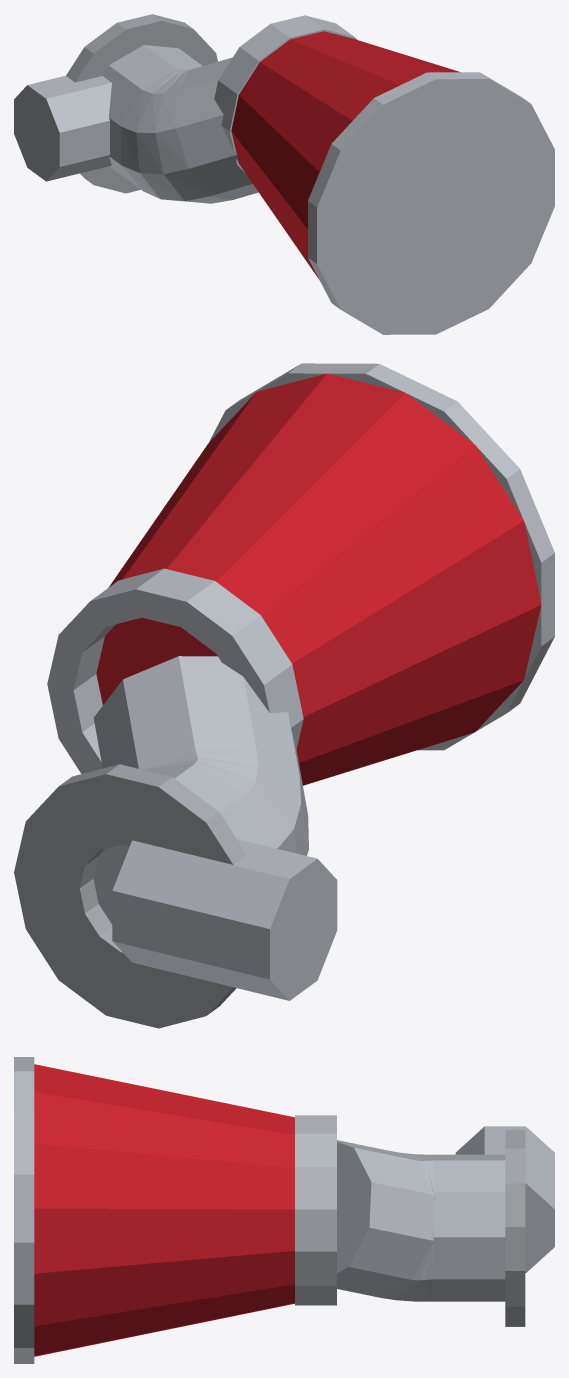
File: starter_car.glb
3 views of the same model, one above another, from view 1: azimuth 30°, elevation 25°; view 2: azimuth 150°, elevation 25°; view 3: azimuth 270°, elevation 25° (orthographic). The views are drawn at different scales.
Parts seen in each view (by area): view 1: model; view 2: model; view 3: model.
Part boxes in pixels (x1,y1,x2,y2): model: (14,14,554,334); model: (14,363,554,1028); model: (14,1057,554,1363).
Bounding box in the file's own units: 0.219 × 0.1848 × 0.3216.
2 materials, 1 textured.
